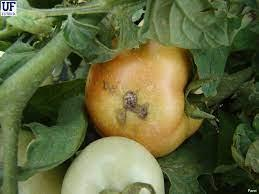tomato early blight: (85, 42, 204, 160)
